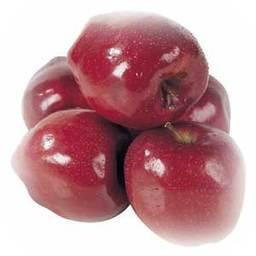apple: (65, 13, 209, 126), (124, 122, 245, 247), (13, 110, 132, 222), (20, 57, 91, 127)
